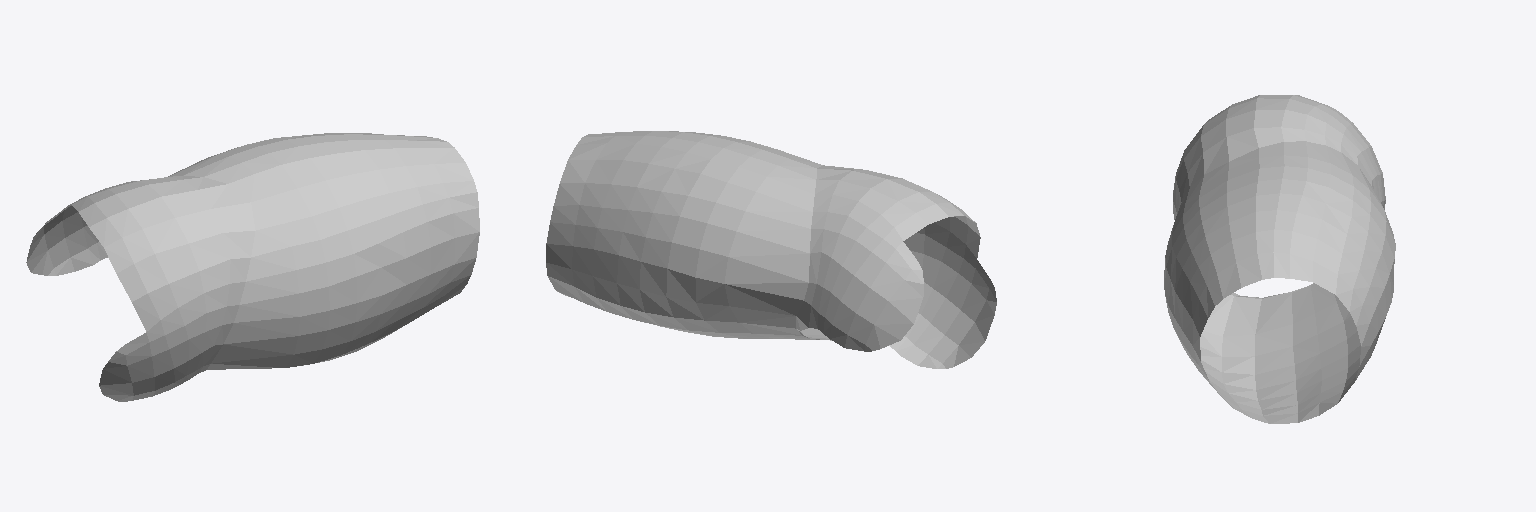
The model's file is LShoulderYaw_mainskin.obj.
3 views of the same model, side by side, from view 1: azimuth 30°, elevation 25°; view 2: azimuth 150°, elevation 25°; view 3: azimuth 270°, elevation 25° (orthographic).
Size of the model in its own units: 0.2251 by 0.1107 by 0.1188.